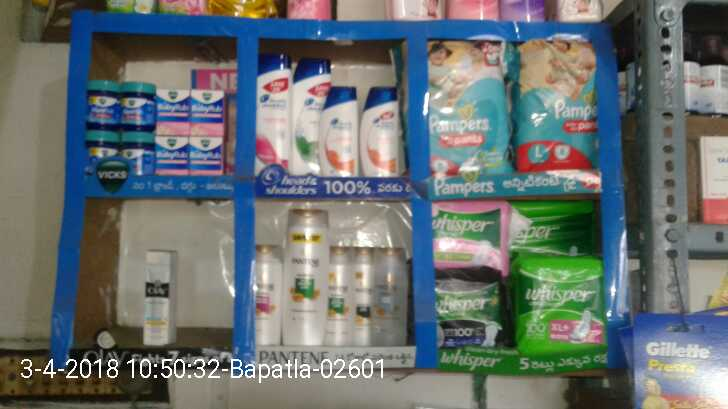vicks: (88, 80, 225, 174)
